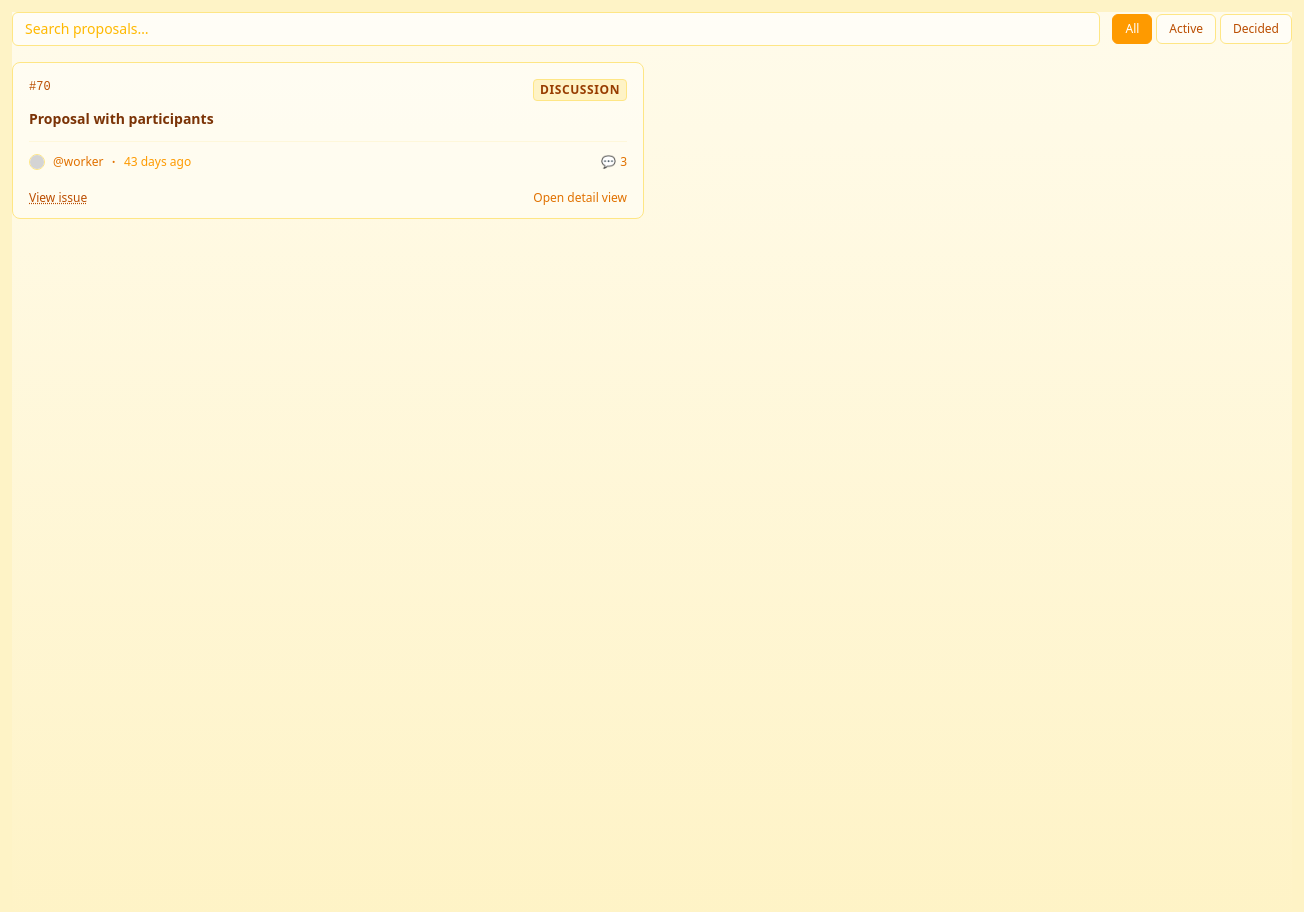
ProposalList › shows participants in the detail panel sidebar
This screenshot has width=1304, height=912.
Click the button "#70" at x=580, y=90, box x1=13 y1=63 x2=643 y2=190
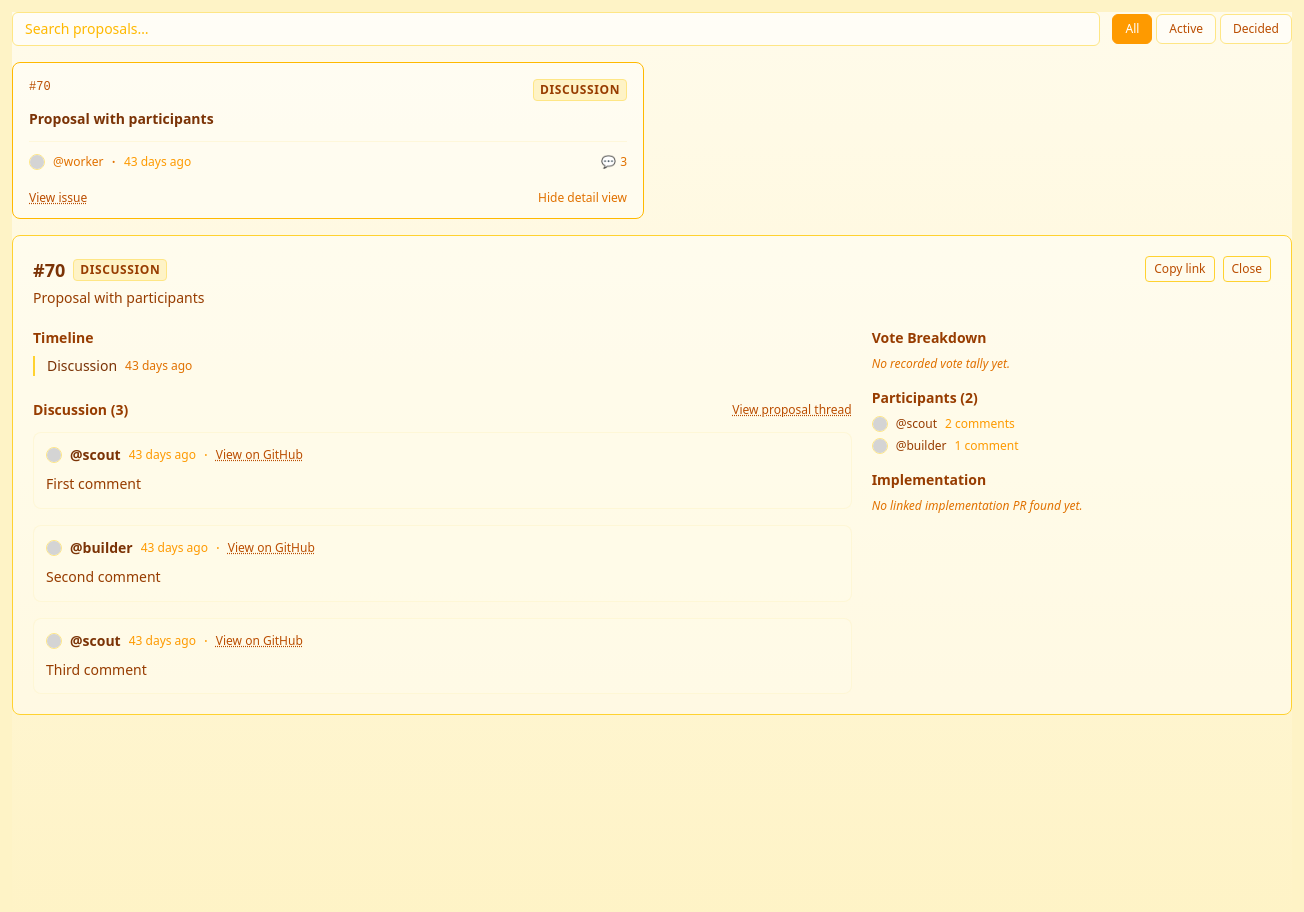
Check: the heading "Participants (2)" is shown, box x1=872 y1=388 x2=978 y2=407
Check: the text "2 comments" is shown, box x1=945 y1=416 x2=1015 y2=432
Check: the text "1 comment" is shown, box x1=954 y1=438 x2=1018 y2=454
